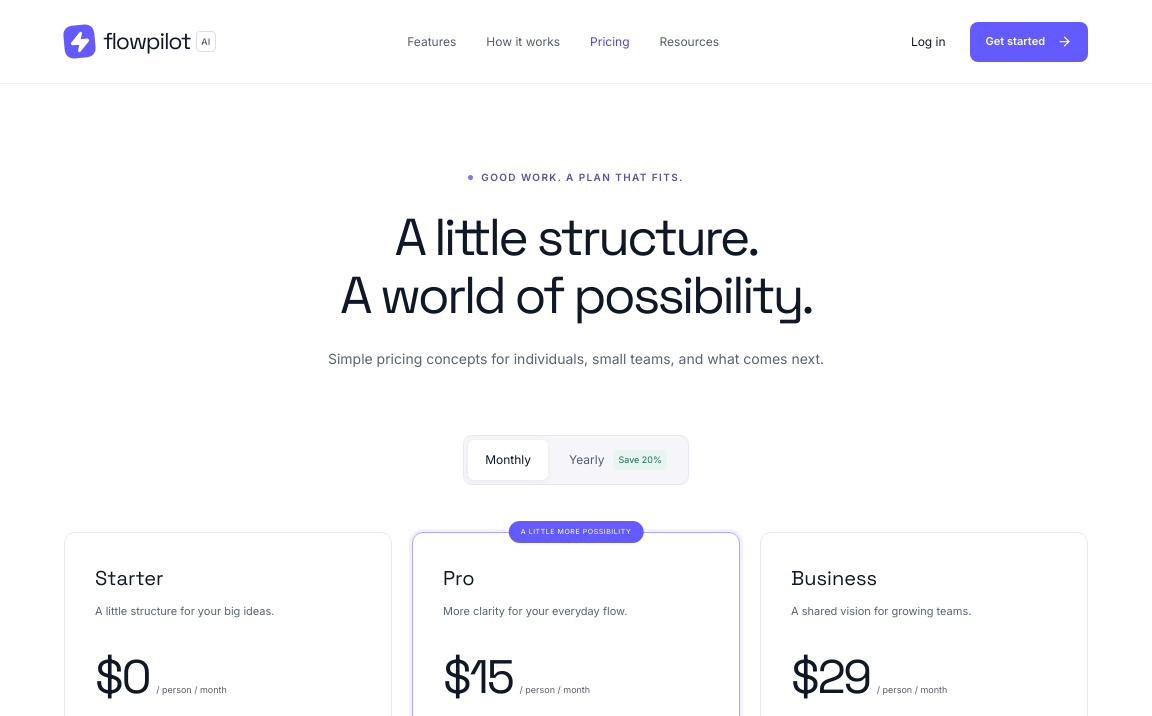
Test: user journeys › changes the billing display and annual total
Click the button "Yearly Save 20%" at point(618, 460), box x1=552 y1=440 x2=684 y2=480
(page scrolled)
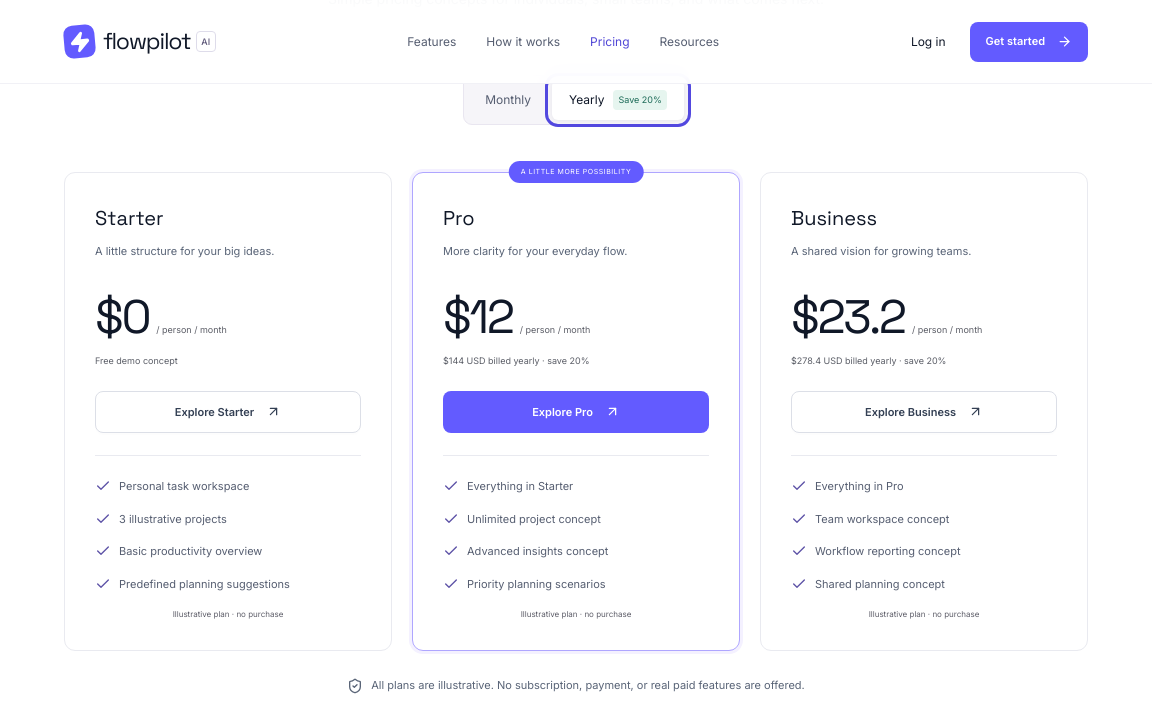
Expected: the text "$144 USD billed yearly · save 20%" is shown, x1=443 y1=355 x2=590 y2=366
Expected: the text "$278.4 USD billed yearly · save 20%" is shown, x1=791 y1=355 x2=946 y2=366
